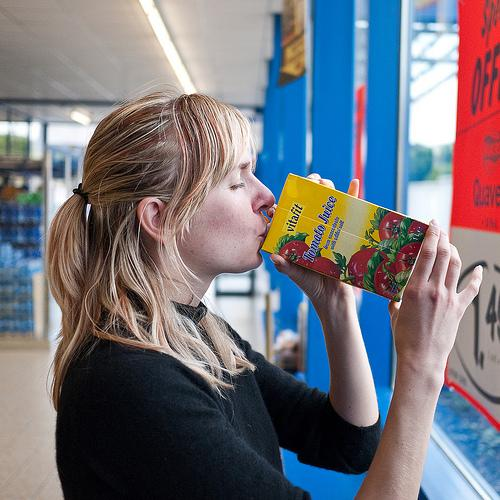person: (46, 87, 486, 500)
